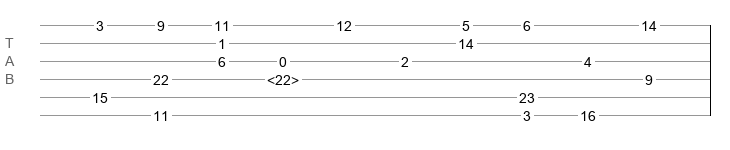0: (279, 54, 287, 64)
1: (218, 36, 226, 46)
11: (153, 108, 169, 118), (214, 18, 230, 28)
12: (336, 18, 352, 28)
14: (458, 36, 474, 46), (641, 18, 657, 28)
15: (92, 90, 108, 100)
16: (580, 108, 596, 118)
2: (401, 54, 409, 64)
22: (153, 72, 169, 82)
23: (519, 90, 535, 100)
3: (96, 18, 104, 28), (523, 108, 531, 118)
4: (584, 54, 592, 64)
5: (462, 18, 470, 28)
6: (218, 54, 226, 64), (523, 18, 531, 28)
9: (157, 18, 165, 28), (645, 72, 653, 82)
harmonic: (267, 72, 299, 82)
